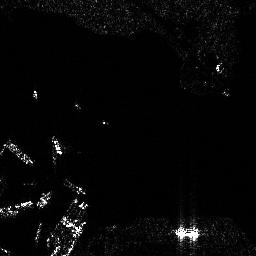ship: (3, 140, 33, 166), (64, 176, 87, 196), (50, 133, 63, 156)
